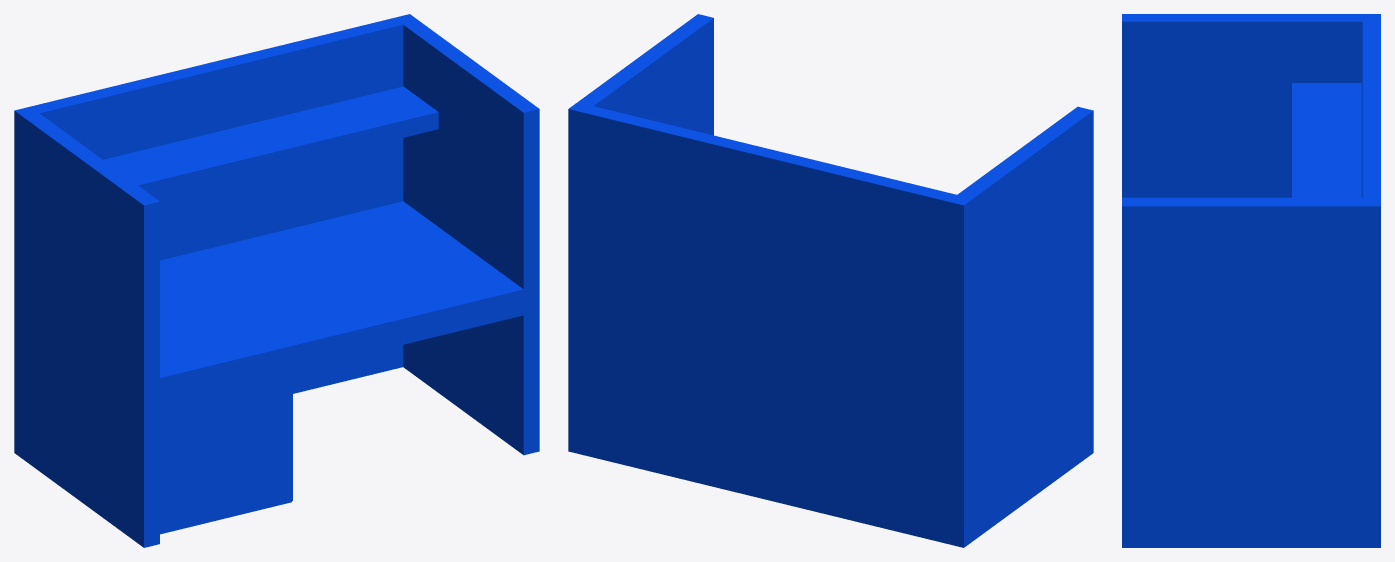
The model's file is study_table_cubicle_large_1_meshCollider.fbx.
The picture shows the model from 3 angles, left to right: view 1: azimuth 30°, elevation 25°; view 2: azimuth 150°, elevation 25°; view 3: azimuth 270°, elevation 25°; orthographic projection.
Visible parts, largest first — view 1: study_table_cubicle_large_1_meshCollider, study_table_cubicle_large_1_drawer_3_meshCollider, study_table_cubicle_large_1_drawer_2_meshCollider, study_table_cubicle_large_1_drawer_1_meshCollider; view 2: study_table_cubicle_large_1_meshCollider; view 3: study_table_cubicle_large_1_meshCollider.
Part boxes in pixels (x1,y1,x2,y2): study_table_cubicle_large_1_meshCollider: [14, 14, 539, 547]; study_table_cubicle_large_1_drawer_3_meshCollider: [160, 447, 291, 534]; study_table_cubicle_large_1_drawer_2_meshCollider: [160, 409, 291, 479]; study_table_cubicle_large_1_drawer_1_meshCollider: [160, 372, 291, 441]; study_table_cubicle_large_1_meshCollider: [568, 14, 1093, 547]; study_table_cubicle_large_1_meshCollider: [1122, 14, 1380, 547].
Size of the model in its own units: 109 by 90.07 by 61.85.
